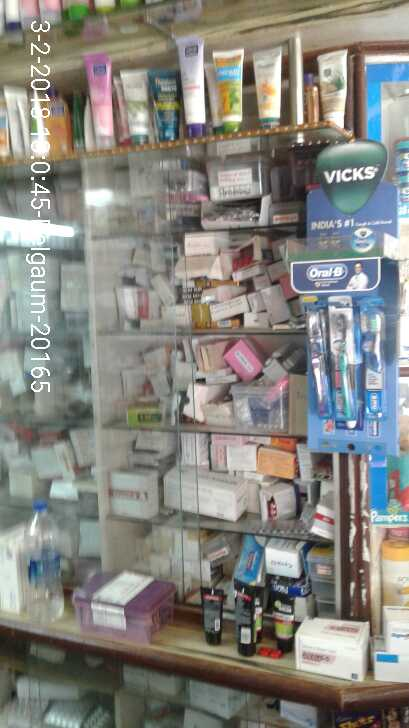oralb: (302, 291, 396, 444)
